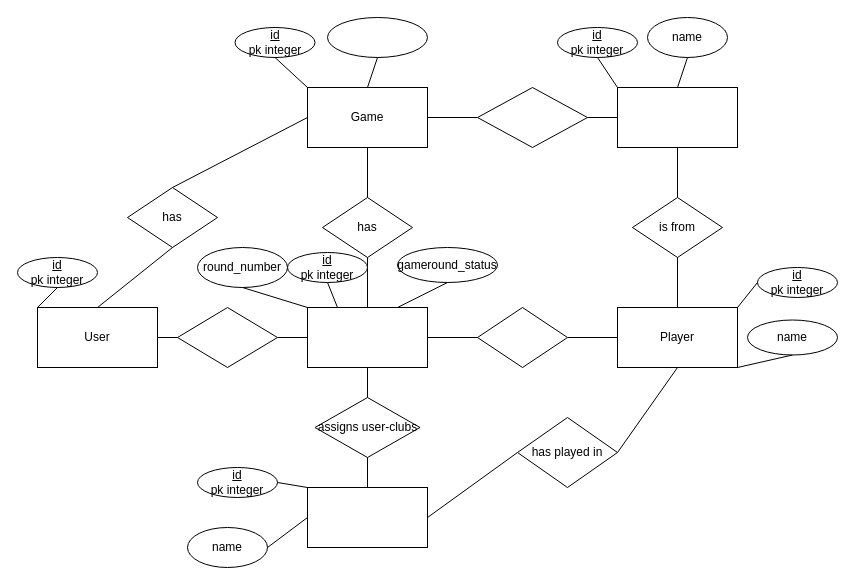
The diagram is 855 pixels wide and 585 high, and some of its shapes have lost their labels. The shapes that lost their labels are listed below. From the top down, each one's box as (x1, y1, x2, y2) in pixels, then its label:
(326, 16, 428, 58): game_status
(476, 86, 588, 148): assigns user-country
(616, 86, 738, 148): Country
(176, 306, 278, 368): guesses player in game round
(306, 306, 428, 368): GameRound
(476, 306, 568, 368): evaluate
(306, 486, 428, 548): Club
